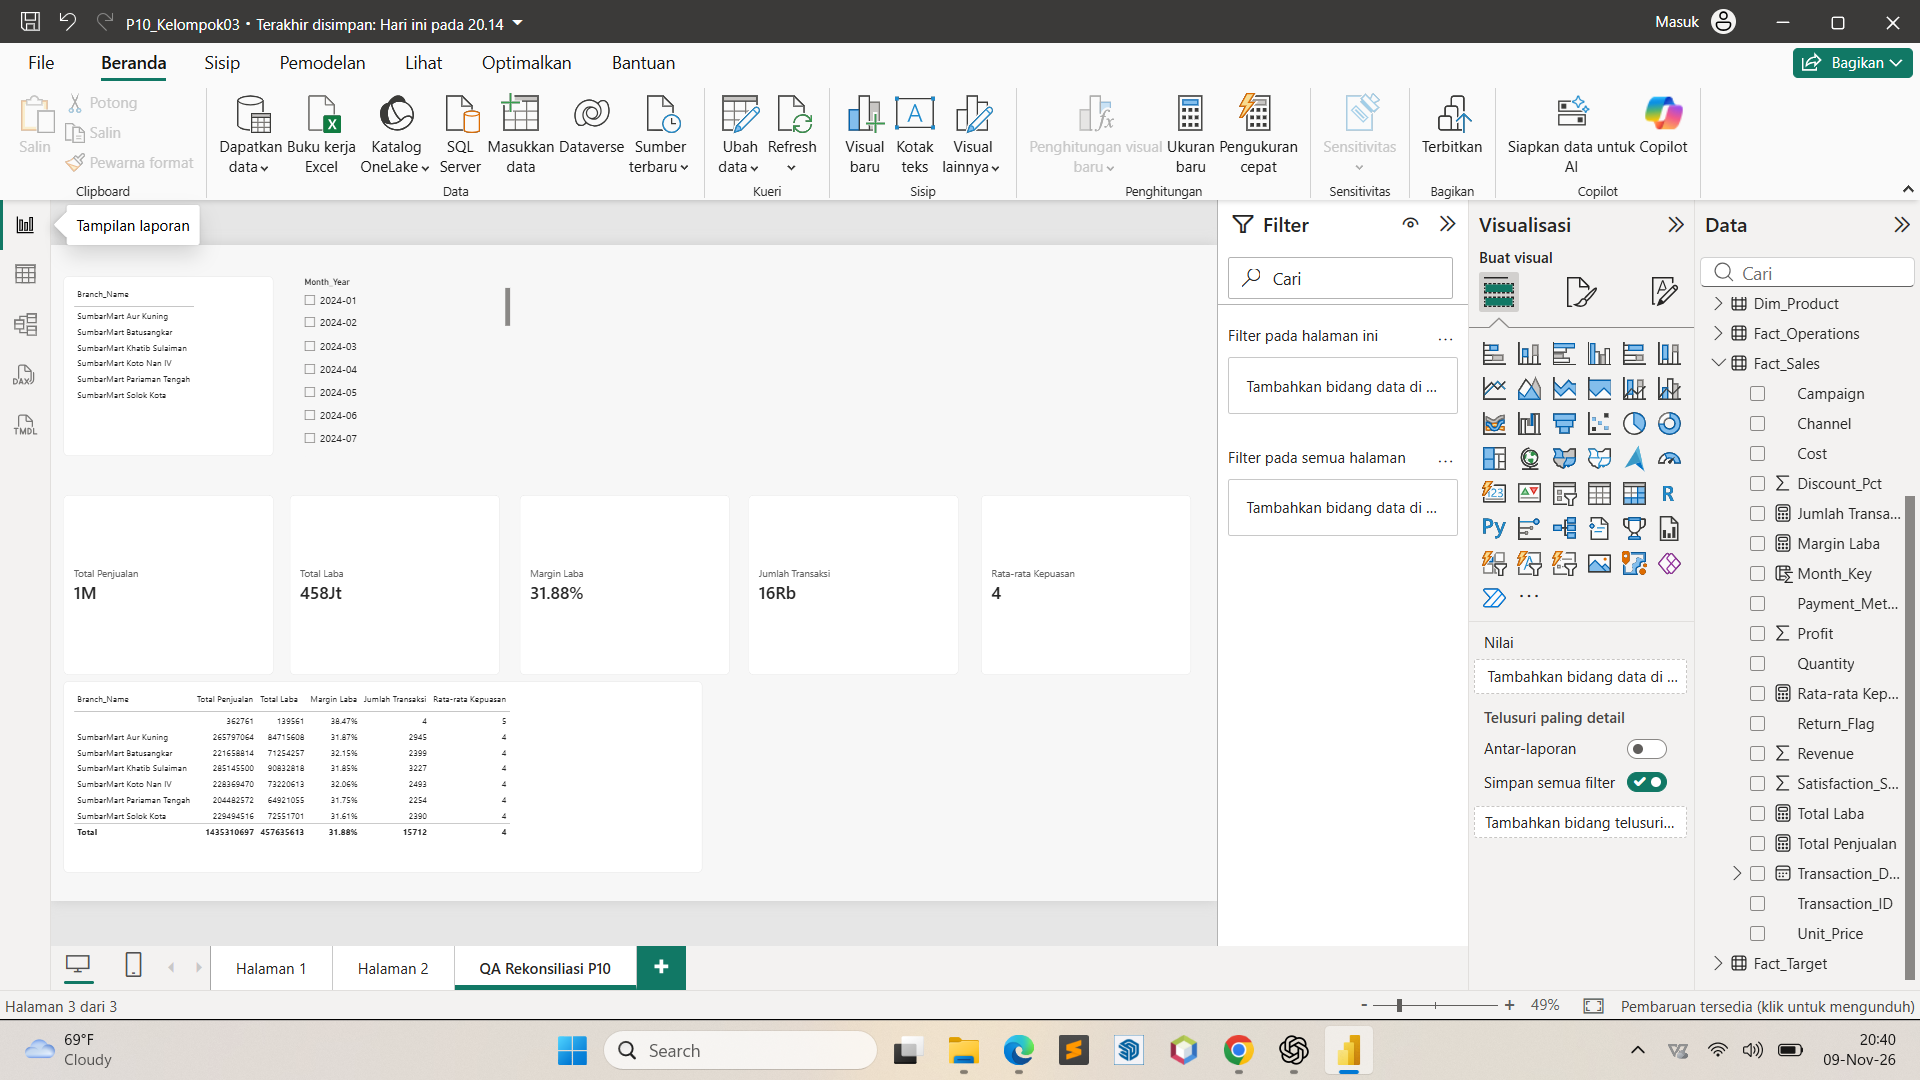

What the dashboard file says about the page in this screenshot:
{"tool":"powerbi","page":{"name":"QA Rekonsiliasi P10","canvas":[1920,1080],"ordinal":2},"visuals":[{"type":"tableEx","fields":{"Values":["Dim_Branch.Branch_Name"]},"box":[20.6,51.5,345.8,296.4],"z":1},{"type":"slicer","fields":{"Values":["Dim Date.Month_Year"]},"box":[409.6,51.5,346,296],"z":2},{"type":"cardVisual","fields":{"Data":["Fact_Sales.Total Penjualan"]},"box":[20.6,366.4,346,296],"z":3},{"type":"cardVisual","fields":{"Data":["Fact_Sales.Total Laba"]},"box":[393.1,366.4,346,296],"z":4},{"type":"cardVisual","fields":{"Data":["Fact_Sales.Margin Laba"]},"box":[771.9,366.4,346,296],"z":5},{"type":"cardVisual","fields":{"Data":["Fact_Sales.Jumlah Transaksi"]},"box":[1148.5,366.4,346,296],"z":6},{"type":"cardVisual","fields":{"Data":["Fact_Sales.Rata-rata Kepuasan"]},"box":[1521.1,366.4,346,296],"z":7},{"type":"tableEx","fields":{"Values":["Dim_Branch.Branch_Name","Fact_Sales.Total Penjualan","Fact_Sales.Total Laba","Fact_Sales.Margin Laba","Fact_Sales.Jumlah Transaksi","Fact_Sales.Rata-rata Kepuasan","Fact_Target.Total Target Penjualan","Fact_Target.Selisih Penjualan"]},"box":[18.5,683.4,1171.2,335.5],"z":8}]}

Visuals, with their boxes on the page's 1920x1080 design canvas (x1, y1, x2, y2). These are canvas units, not pixel positions in the 1920x1080 screenshot, which may show the page scaled, cropped or inside an application window:
tableEx - Dim_Branch.Branch_Name: l=21, t=52, r=366, b=348
slicer - Dim Date.Month_Year: l=410, t=52, r=756, b=348
cardVisual - Fact_Sales.Total Penjualan: l=21, t=366, r=367, b=662
cardVisual - Fact_Sales.Total Laba: l=393, t=366, r=739, b=662
cardVisual - Fact_Sales.Margin Laba: l=772, t=366, r=1118, b=662
cardVisual - Fact_Sales.Jumlah Transaksi: l=1148, t=366, r=1494, b=662
cardVisual - Fact_Sales.Rata-rata Kepuasan: l=1521, t=366, r=1867, b=662
tableEx - Dim_Branch.Branch_Name x Fact_Sales.Total Penjualan: l=18, t=683, r=1190, b=1019
